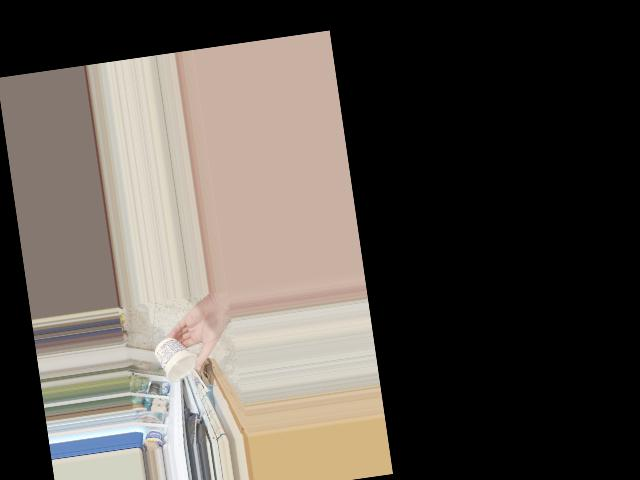cotage: (154, 337, 202, 383)
